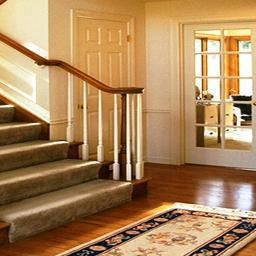Escaleras: (4, 102, 151, 217)
Puerta: (175, 20, 255, 169), (78, 19, 128, 153)
